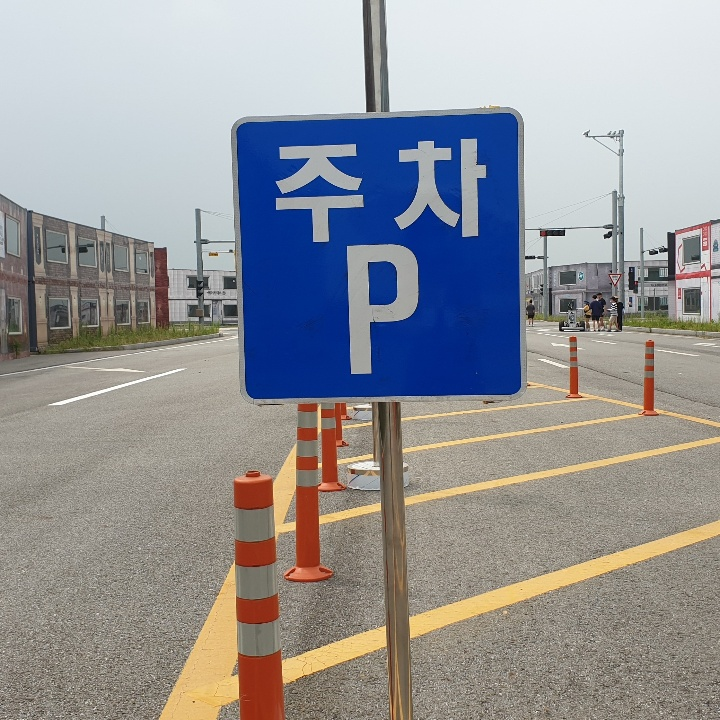parking: (336, 234, 435, 383)
